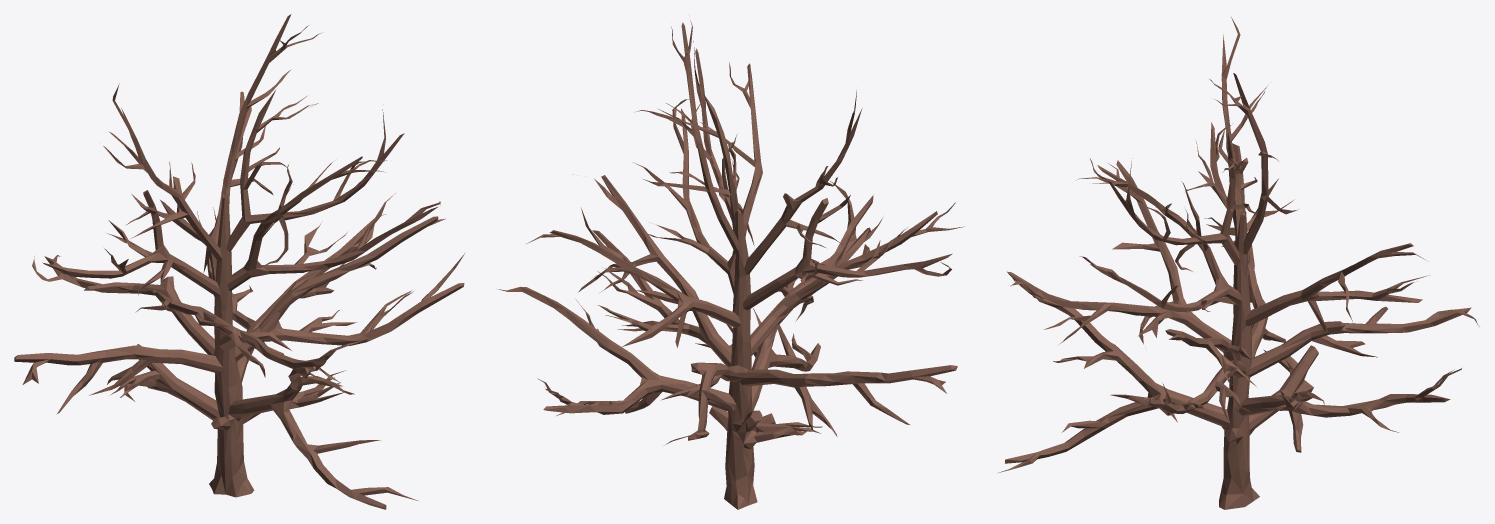
Rendered from DeadTree01.fbx.
3 views of the same model, side by side, from view 1: azimuth 30°, elevation 25°; view 2: azimuth 150°, elevation 25°; view 3: azimuth 270°, elevation 25° (orthographic).
Visible parts, largest first — view 1: DeadTree01_LOD0; view 2: DeadTree01_LOD0; view 3: DeadTree01_LOD0.
Boxes of the visible parts, x1=… form: DeadTree01_LOD0: x1=14, y1=14, x2=464, y2=509; DeadTree01_LOD0: x1=498, y1=20, x2=964, y2=509; DeadTree01_LOD0: x1=997, y1=17, x2=1479, y2=509.
Size of what is drawn, in the model's own units: 1541 by 1629 by 1567.
